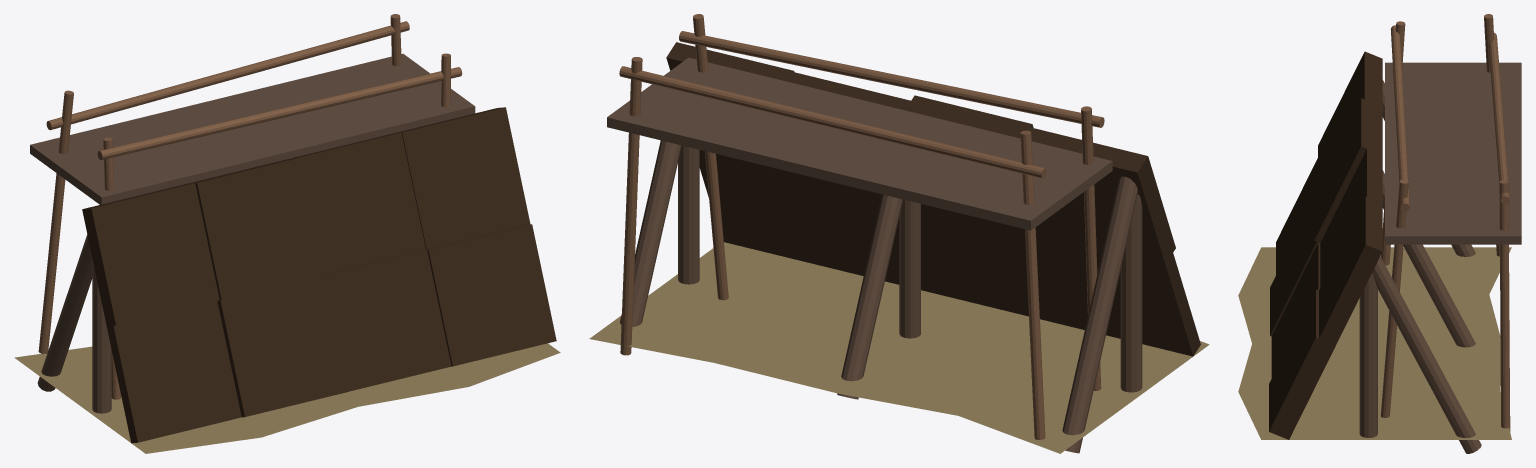
File: Wall.fbx
3 views of the same model, side by side, from view 1: azimuth 30°, elevation 25°; view 2: azimuth 150°, elevation 25°; view 3: azimuth 270°, elevation 25° (orthographic). The views are drawn at different scales.
Visible parts, largest first — view 1: Wall; view 2: Wall; view 3: Wall.
Part boxes in pixels (box(x1,y1,x2,y2)): Wall: box(14, 14, 560, 453); Wall: box(589, 14, 1209, 453); Wall: box(1238, 14, 1521, 453).
Bounding box in the file's own units: 10 × 6.52 × 6.21.
